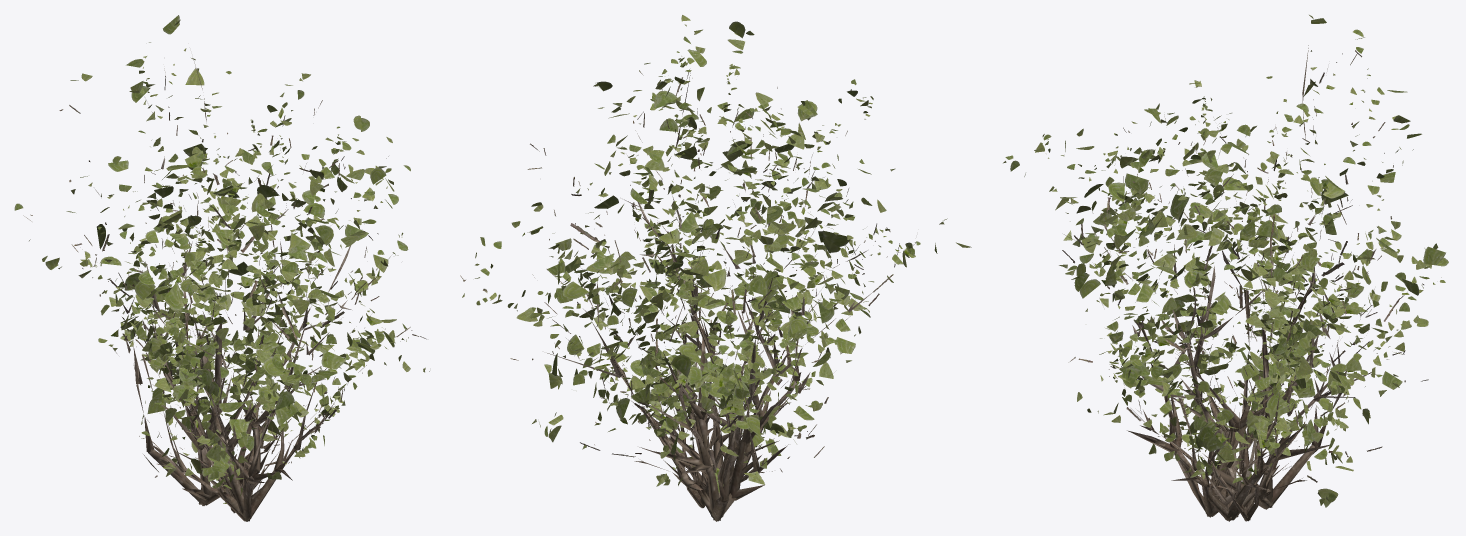
The model's file is searsia_lucida.glb.
3 views of the same model, side by side, from view 1: azimuth 30°, elevation 25°; view 2: azimuth 150°, elevation 25°; view 3: azimuth 270°, elevation 25° (orthographic). The views are drawn at different scales.
Parts seen in each view (by area): view 1: searsia_lucida_a_LOD0 (×2), searsia_lucida_b_LOD0 (×2), searsia_lucida_c_LOD0 (×2), searsia_lucida_d_LOD0 (×2), searsia_lucida_e_LOD0 (×2), searsia_lucida_f_LOD0; view 2: searsia_lucida_a_LOD0 (×2), searsia_lucida_b_LOD0 (×2), searsia_lucida_c_LOD0 (×2), searsia_lucida_d_LOD0 (×2), searsia_lucida_e_LOD0 (×2); view 3: searsia_lucida_a_LOD0 (×2), searsia_lucida_b_LOD0 (×2), searsia_lucida_c_LOD0 (×2), searsia_lucida_d_LOD0 (×2), searsia_lucida_e_LOD0 (×2).
Part boxes in pixels (left/top/right/bottom): searsia_lucida_a_LOD0 (×2): left=14, top=15, right=429, bottom=505; searsia_lucida_b_LOD0 (×2): left=102, top=119, right=408, bottom=521; searsia_lucida_c_LOD0 (×2): left=127, top=177, right=412, bottom=504; searsia_lucida_d_LOD0 (×2): left=120, top=246, right=345, bottom=489; searsia_lucida_e_LOD0 (×2): left=141, top=328, right=328, bottom=513; searsia_lucida_f_LOD0: left=170, top=379, right=276, bottom=503; searsia_lucida_a_LOD0 (×2): left=460, top=15, right=971, bottom=521; searsia_lucida_b_LOD0 (×2): left=548, top=69, right=872, bottom=489; searsia_lucida_c_LOD0 (×2): left=564, top=149, right=920, bottom=489; searsia_lucida_d_LOD0 (×2): left=590, top=237, right=824, bottom=508; searsia_lucida_e_LOD0 (×2): left=610, top=317, right=822, bottom=484; searsia_lucida_a_LOD0 (×2): left=1003, top=15, right=1448, bottom=509; searsia_lucida_b_LOD0 (×2): left=1062, top=96, right=1401, bottom=517; searsia_lucida_c_LOD0 (×2): left=1100, top=148, right=1370, bottom=521; searsia_lucida_d_LOD0 (×2): left=1124, top=221, right=1336, bottom=521; searsia_lucida_e_LOD0 (×2): left=1175, top=288, right=1301, bottom=517.
Size of the model in its own units: 1.72 by 2.3 by 1.9.
Materials: 2 (2 with a texture image).
